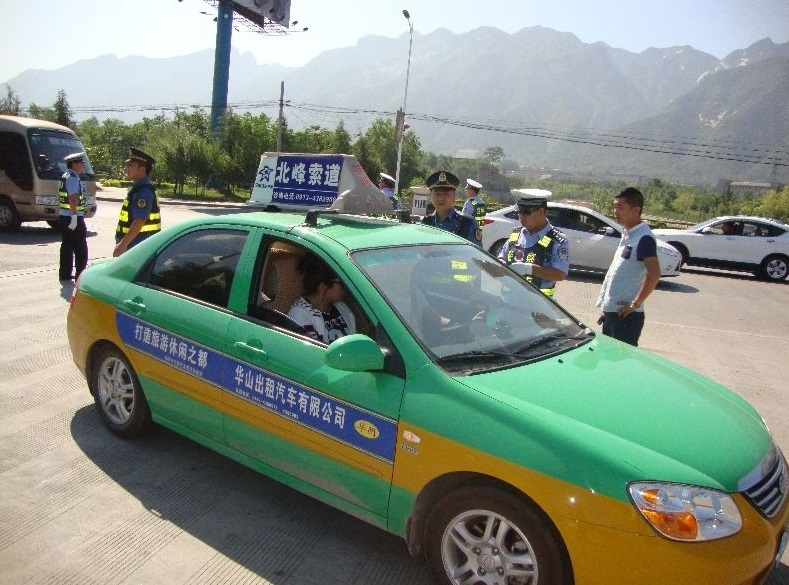taxi: (71, 151, 784, 582)
